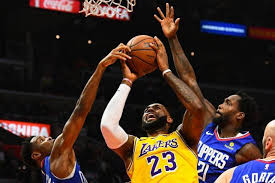ball: (122, 34, 164, 76)
